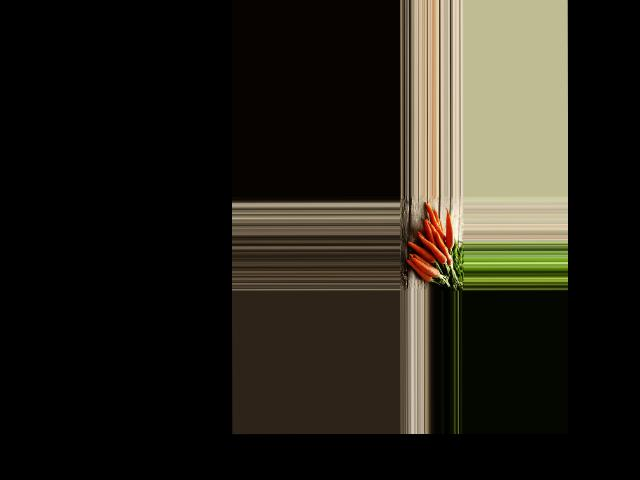carrot: (444, 210, 457, 247)
